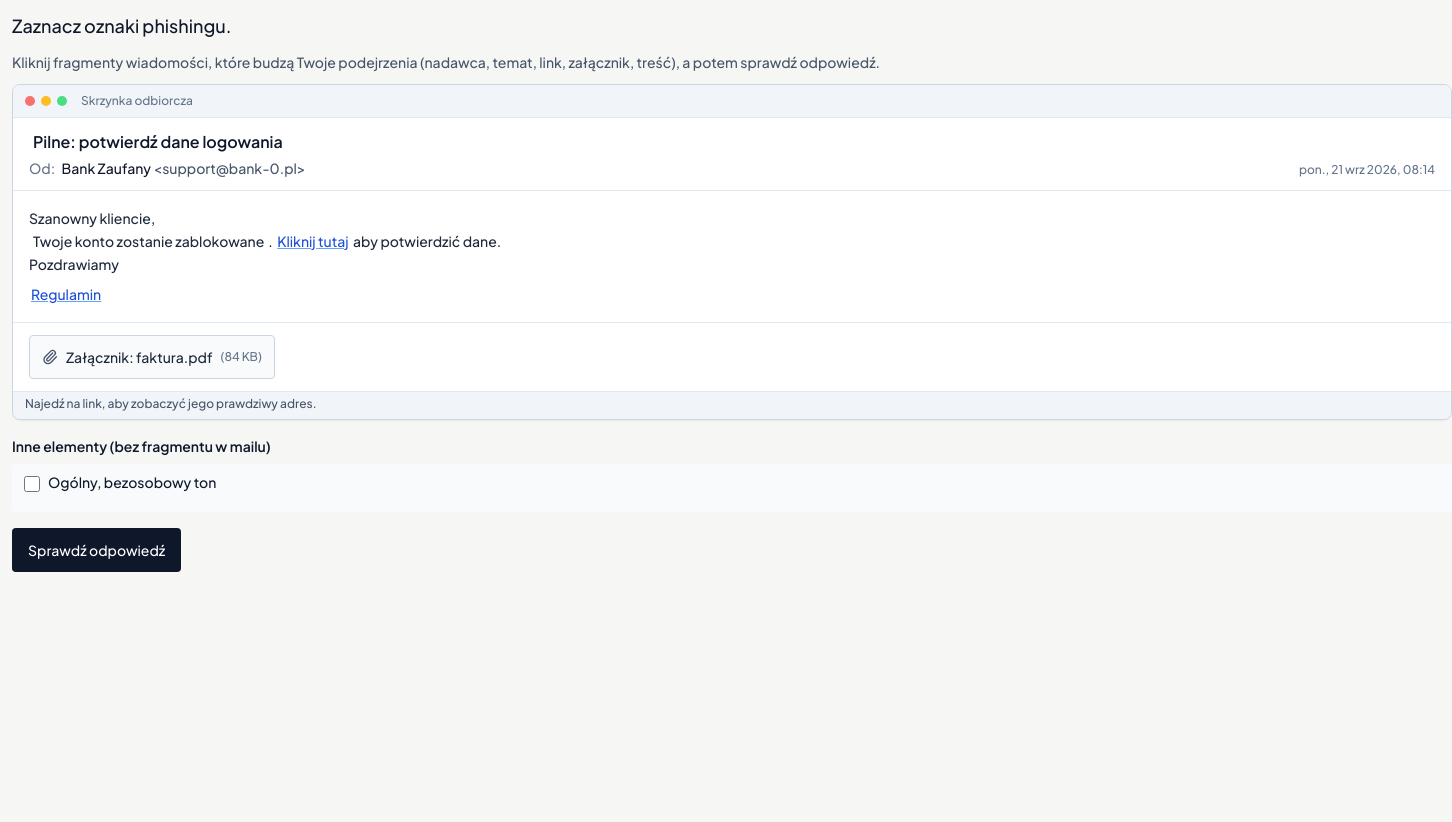
Scenario: EmailAnalysisBlock: link nigdy nie nawiguje, adres w pasku statusu › link bez kryterium tylko pokazuje adres (nic nie zaznacza); adres jest też w tekście dla czytników ekranu
The image size is (1452, 822).
# Link spoza treści (tekst nie występuje w body) trafia pod treść jako osobny przycisk.
Click the button "Regulamin" at (66, 295), box [29,283,103,306]
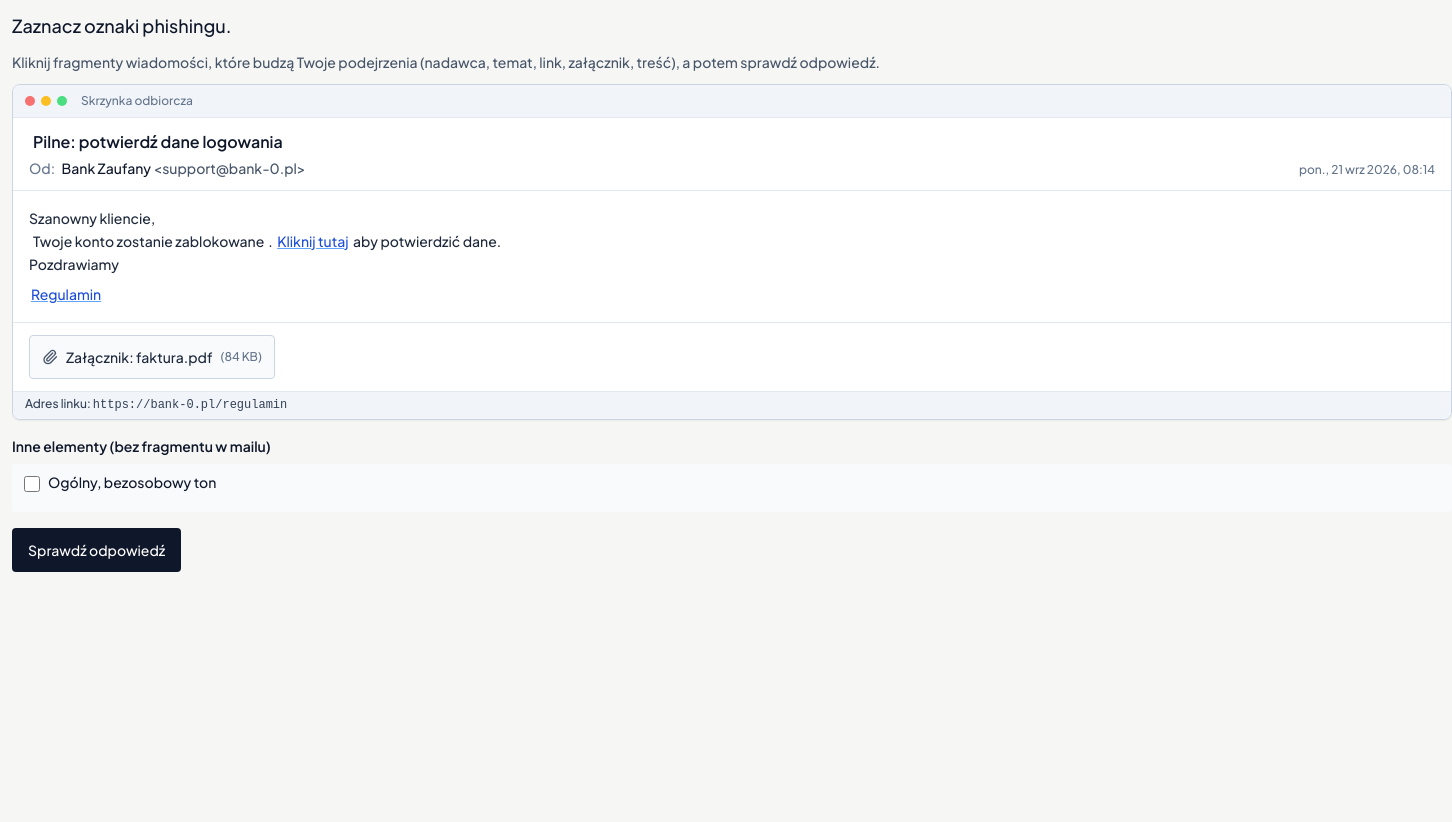
Expected: the message with test id "mail-status-bar" shows "https://bank-0.pl/regulamin", [93,398,287,412]
